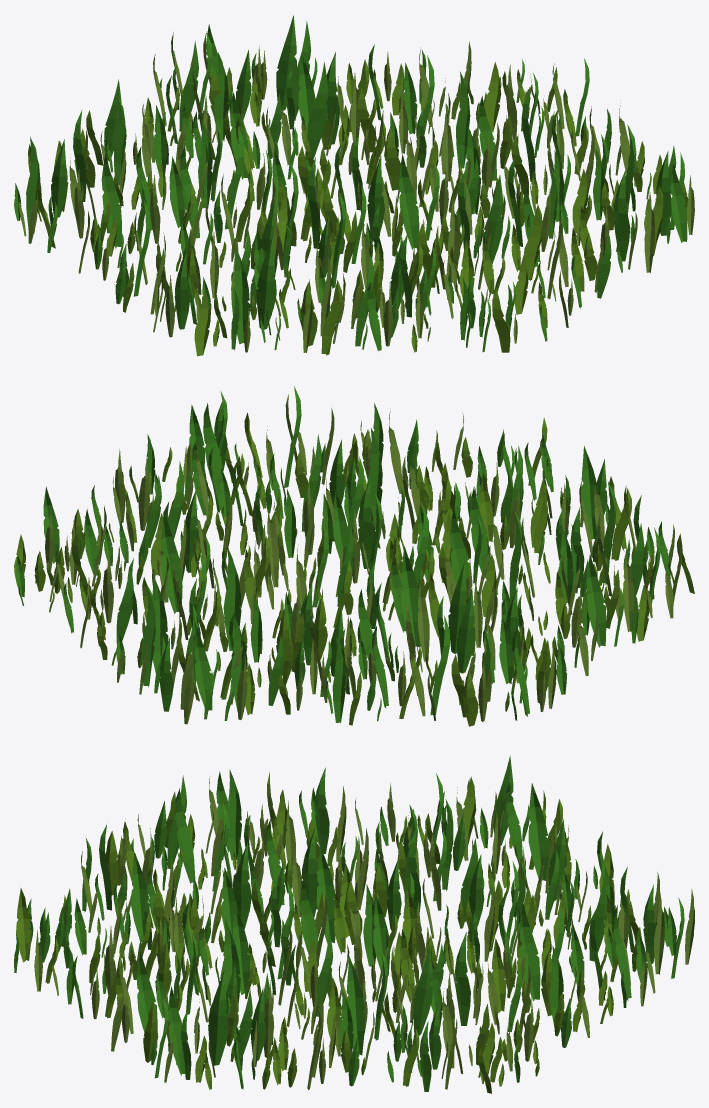
The model's file is grass1.fbx.
The picture shows the model from 3 angles, top to bottom: view 1: azimuth 30°, elevation 25°; view 2: azimuth 150°, elevation 25°; view 3: azimuth 270°, elevation 25°; orthographic projection.
Parts seen in each view (by area): view 1: Circle; view 2: Circle; view 3: Circle.
Part boxes in pixels (x1,y1,x2,y2): Circle: [14, 15, 694, 356]; Circle: [14, 386, 694, 726]; Circle: [14, 755, 694, 1093].
Bounding box in the file's own units: 4035 × 733 × 4471.
